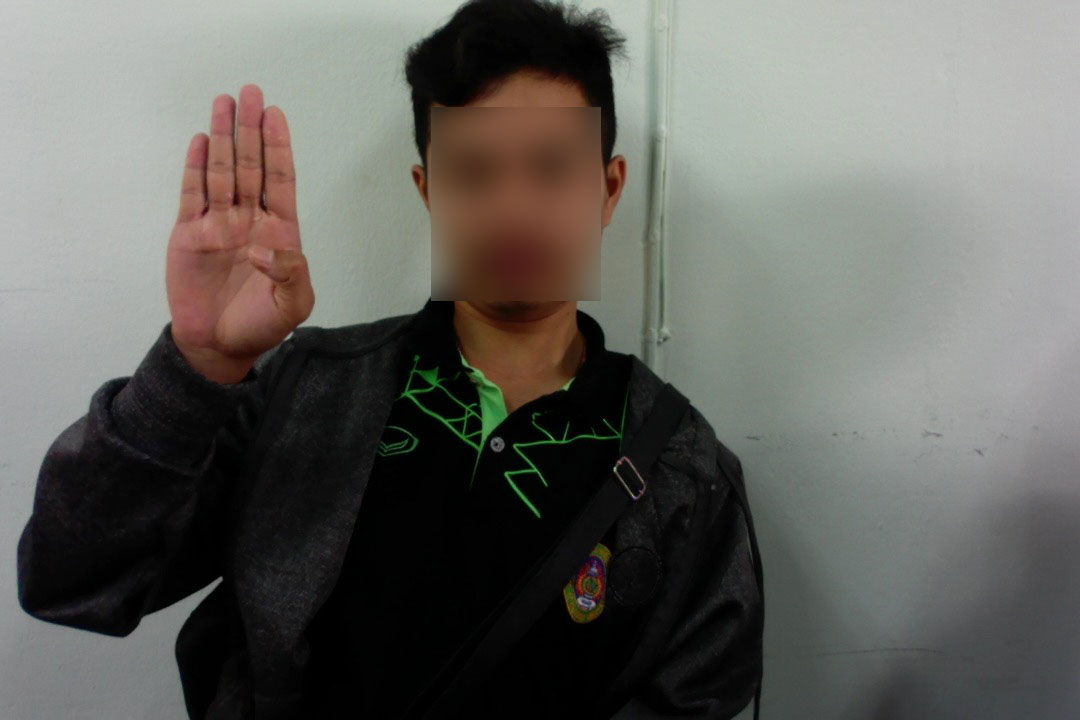bor: (161, 79, 323, 363)
